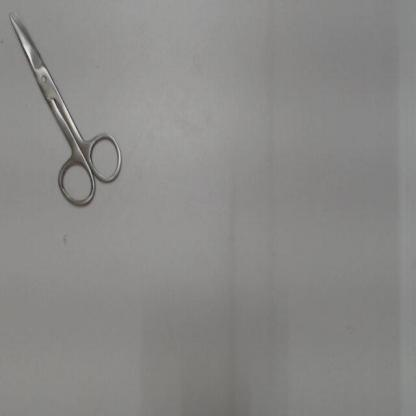Dressing Scissors: (4, 3, 128, 216)
